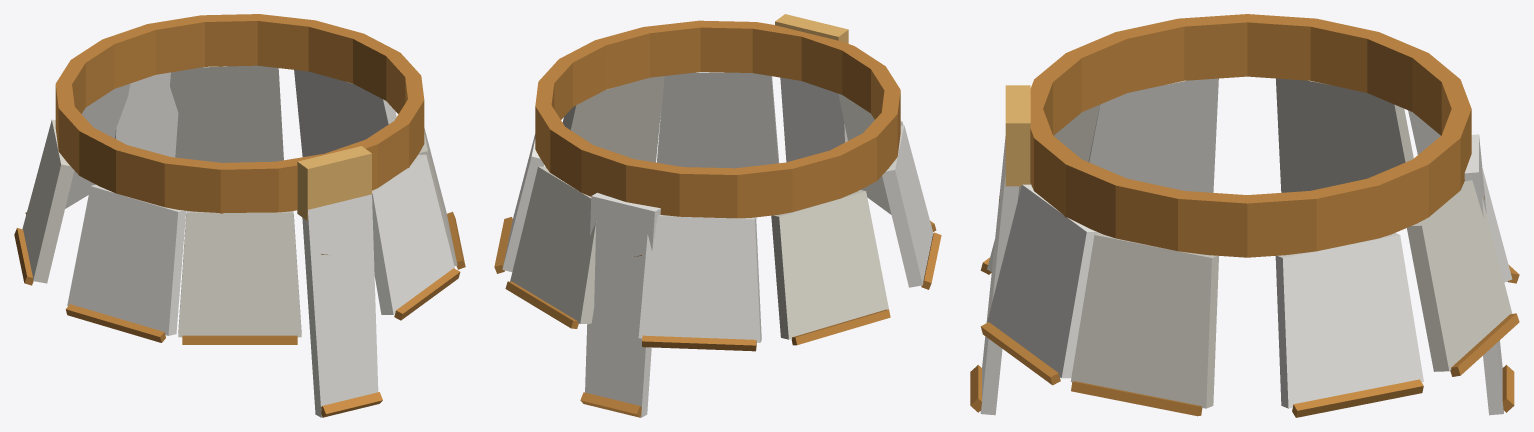
File: sky_guardian_robes.glb
The picture shows the model from 3 angles, left to right: view 1: azimuth 30°, elevation 25°; view 2: azimuth 150°, elevation 25°; view 3: azimuth 270°, elevation 25°; orthographic projection. The views are drawn at different scales.
Visible parts, largest first — view 1: sky_guardian_robes; view 2: sky_guardian_robes; view 3: sky_guardian_robes.
Boxes of the visible parts, x1,y1,x2,y2 form: sky_guardian_robes: [14, 14, 465, 417]; sky_guardian_robes: [494, 14, 941, 417]; sky_guardian_robes: [970, 14, 1519, 417].
Size of the model in its own units: 1.09 by 0.6514 by 1.1.
